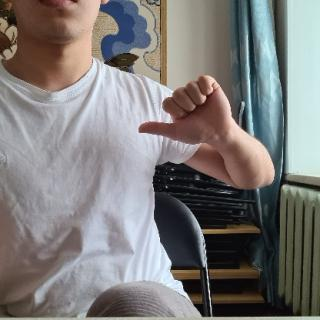DAD: (132, 70, 242, 152)
